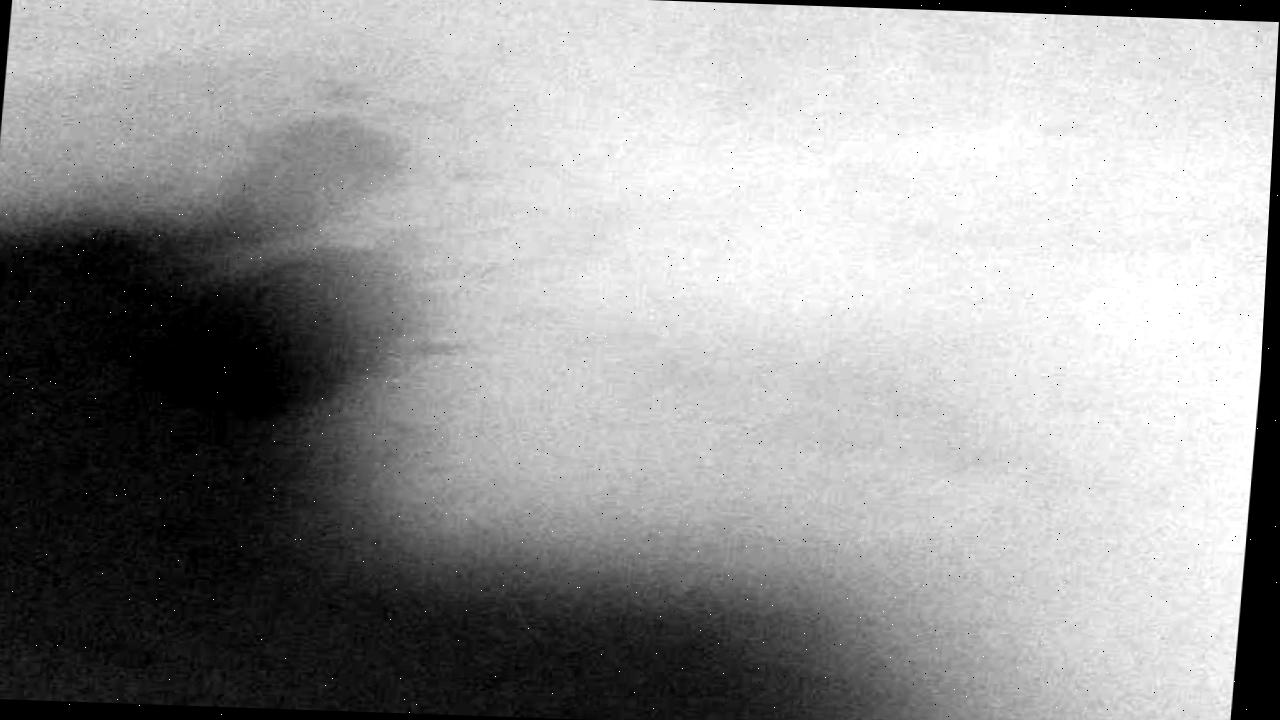drinks Stains: (118, 52, 442, 452)
